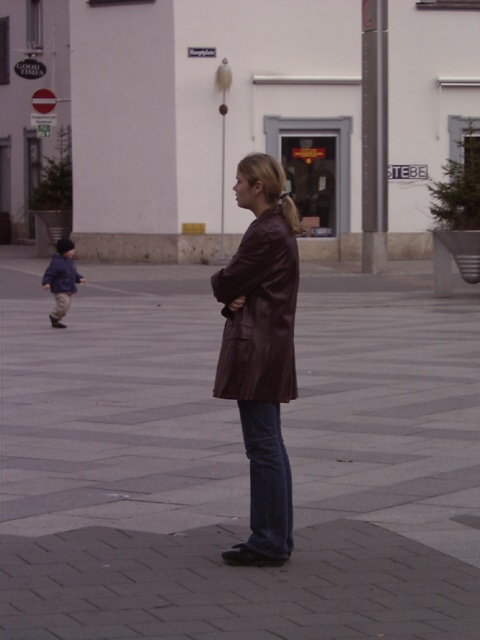person: (212, 151, 304, 566), (40, 241, 82, 326)
